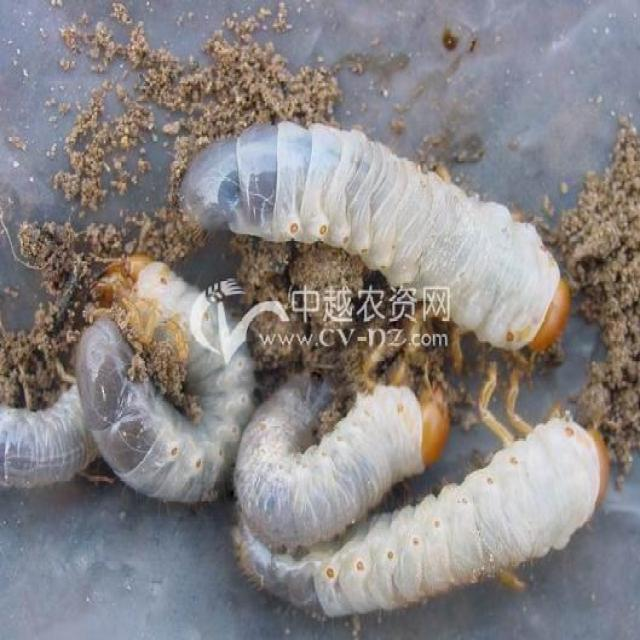Grub-Adult-: (170, 109, 606, 370), (255, 410, 611, 610), (74, 244, 258, 532), (215, 348, 462, 554)
